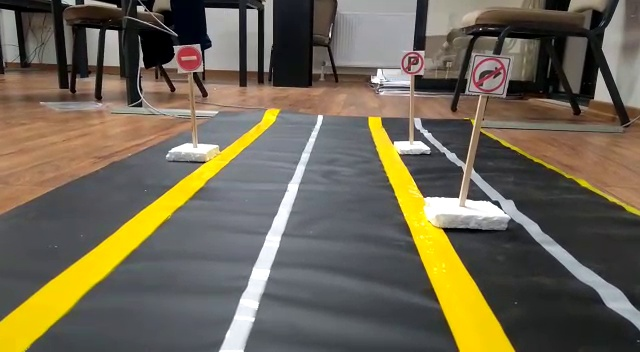girisi_olmayan_yol: (175, 43, 202, 73)
park_yapilmaz: (401, 50, 423, 74)
saga_donulmez: (469, 53, 508, 95)
